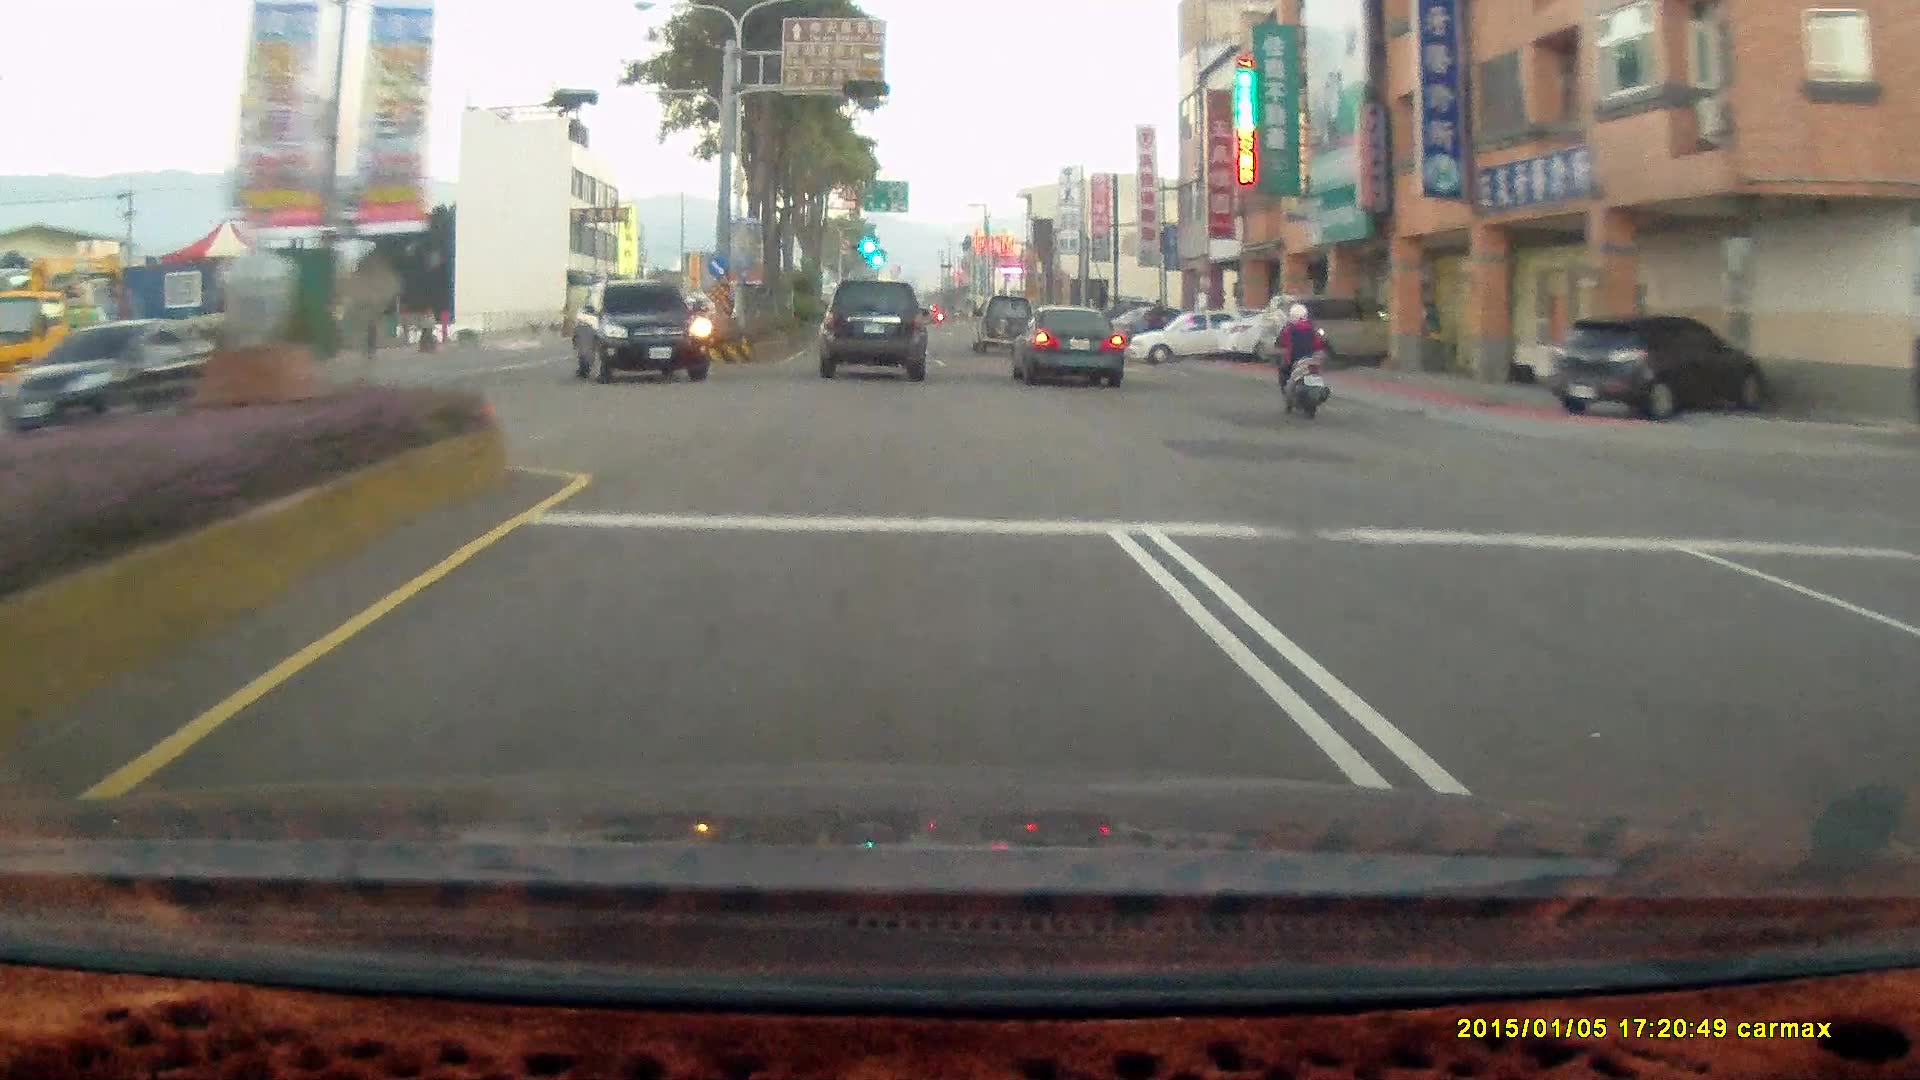rider: (1263, 293, 1343, 428), (1270, 299, 1331, 414)
vehicle: (0, 316, 219, 433), (21, 316, 230, 431), (1554, 314, 1770, 422), (1551, 316, 1767, 416), (1, 283, 186, 396), (575, 278, 714, 382), (571, 278, 708, 382), (1254, 293, 1423, 368), (817, 281, 927, 382), (823, 278, 932, 379), (1253, 293, 1398, 368), (1009, 302, 1131, 385), (1007, 303, 1122, 387), (1138, 303, 1268, 367), (1128, 306, 1263, 363), (970, 290, 1038, 350), (1110, 302, 1198, 345)
